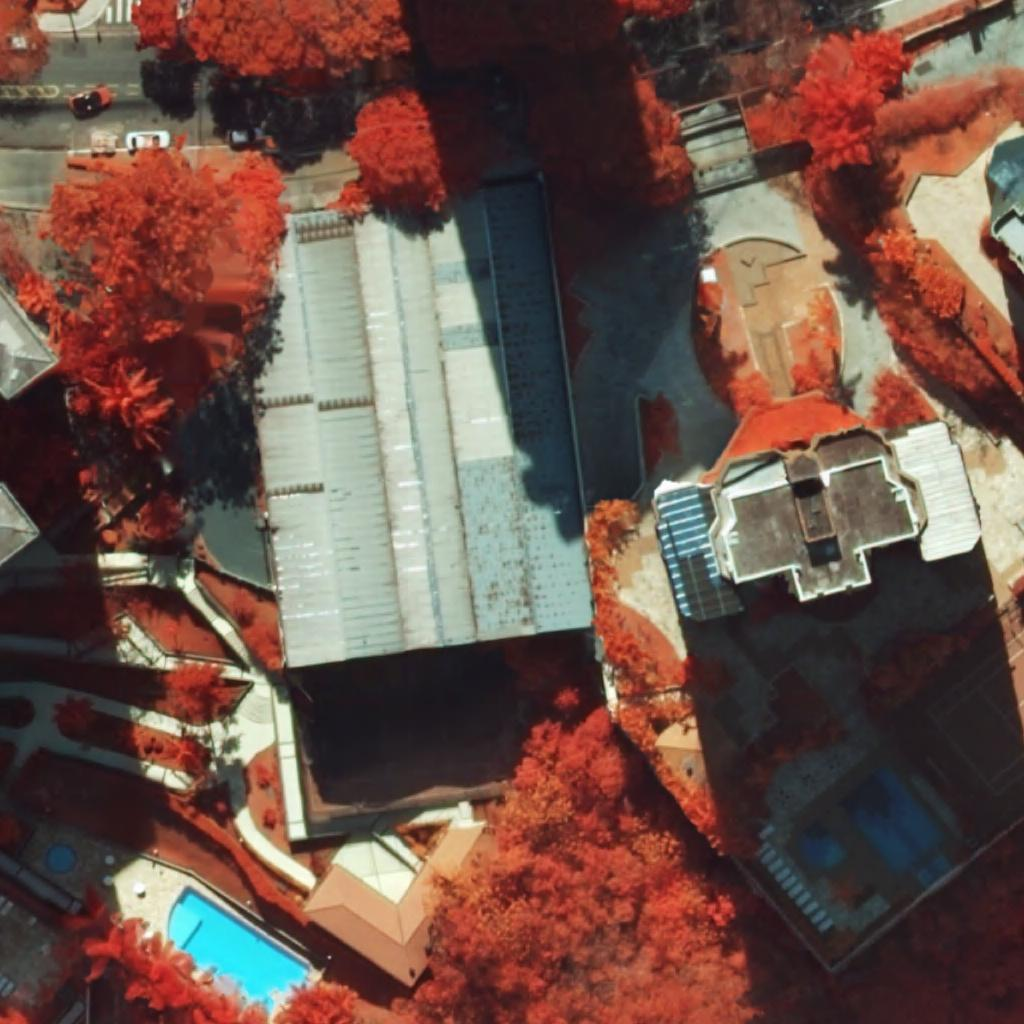pool: (167, 885, 309, 1008), (840, 768, 944, 874), (47, 845, 78, 873)
